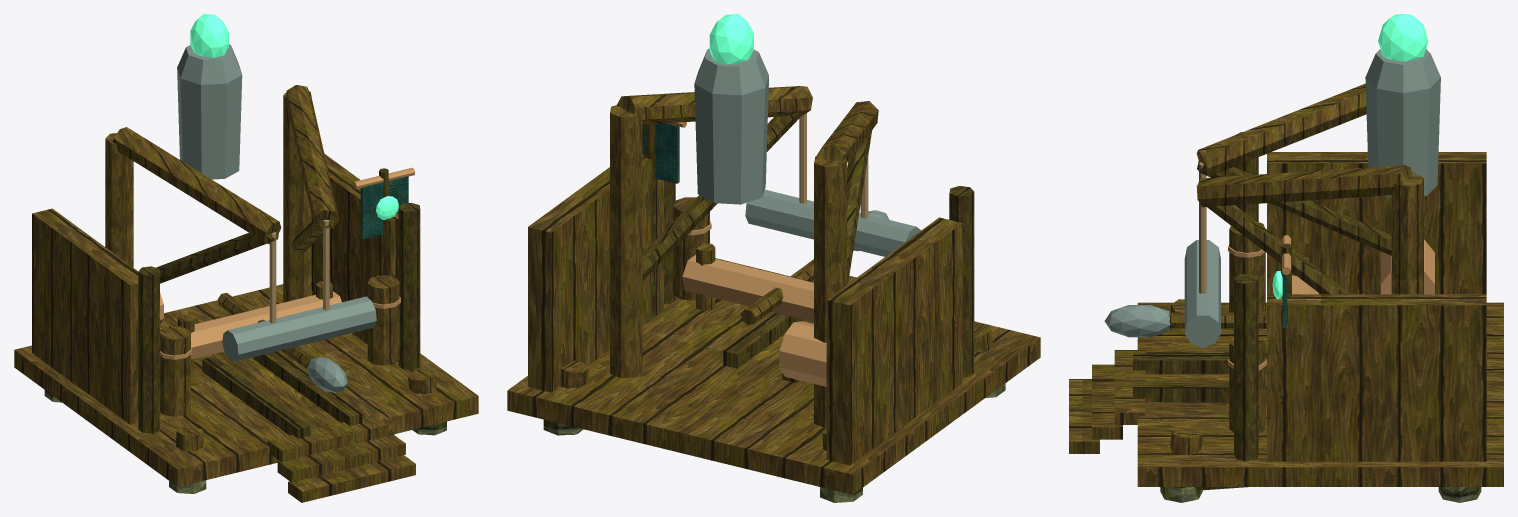
File: 15-heavy-wharf.glb
3 views of the same model, side by side, from view 1: azimuth 30°, elevation 25°; view 2: azimuth 150°, elevation 25°; view 3: azimuth 270°, elevation 25° (orthographic). The views are drawn at different scales.
Parts seen in each view (by area): view 1: 15-heavy-wharf; view 2: 15-heavy-wharf; view 3: 15-heavy-wharf.
Boxes of the visible parts, bbox=[...] form: 15-heavy-wharf: bbox=[14, 14, 478, 502]; 15-heavy-wharf: bbox=[507, 14, 1040, 502]; 15-heavy-wharf: bbox=[1069, 14, 1503, 502].
Bounding box in the file's own units: 3.41 × 4.03 × 3.8.
Materials: 8 (4 with a texture image).
